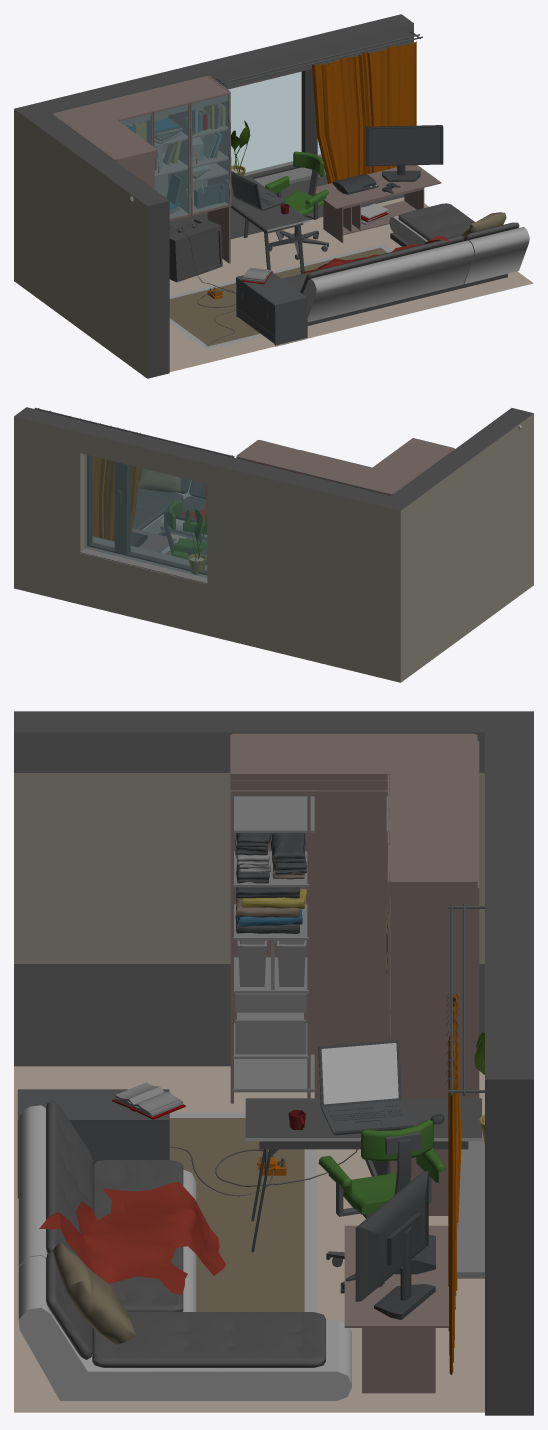
File: room.glb
3 views of the same model, one above another, from view 1: azimuth 30°, elevation 25°; view 2: azimuth 150°, elevation 25°; view 3: azimuth 270°, elevation 25° (orthographic). The views are drawn at different scales.
Visible parts, largest first — view 1: polySurface1299, pPlane7, polySurface1287, polySurface5, polySurface493, polySurface1073, polySurface604, polySurface1300, pCube108, pCylinder49, polySurface492, pCube292 (+14 smaller); view 2: polySurface1299, pPlane7, polySurface1287, polySurface143, polySurface1073, polySurface492, pCube94, polySurface576, pCube273, polySurface493, pCube108, pCylinder70; view 3: polySurface1299, polySurface1287, polySurface5, polySurface492, polySurface1301, polySurface604, polySurface493, polySurface1484, pCube108, polySurface1300, pCube292, polySurface437 (+13 smaller).
Boxes of the visible parts, <box> form: polySurface1299: <box>14,14,413,378</box>; pPlane7: <box>119,72,320,218</box>; polySurface1287: <box>52,75,231,263</box>; polySurface5: <box>169,197,533,371</box>; polySurface493: <box>302,215,529,322</box>; polySurface1073: <box>312,39,416,183</box>; polySurface604: <box>169,244,392,349</box>; polySurface1300: <box>49,23,413,114</box>; pCube108: <box>315,165,441,242</box>; pCylinder49: <box>236,269,307,346</box>; polySurface492: <box>282,203,519,293</box>; pCube292: <box>365,125,443,181</box>; polySurface1299: <box>14,407,533,682</box>; pPlane7: <box>84,454,207,577</box>; polySurface1287: <box>236,438,454,495</box>; polySurface143: <box>87,455,207,575</box>; polySurface1073: <box>48,410,140,541</box>; polySurface492: <box>132,468,206,530</box>; pCube94: <box>80,536,207,583</box>; polySurface576: <box>164,500,207,559</box>; pCube273: <box>138,468,181,492</box>; polySurface493: <box>141,480,207,541</box>; pCube108: <box>131,528,176,552</box>; pCylinder70: <box>34,407,234,457</box>; polySurface1299: <box>14,711,533,1415</box>; polySurface1287: <box>230,733,479,1215</box>; polySurface5: <box>14,1066,484,1412</box>; polySurface492: <box>46,1101,325,1367</box>; polySurface1301: <box>14,964,484,1066</box>; polySurface604: <box>169,1112,316,1312</box>; polySurface493: <box>18,1105,351,1400</box>; polySurface1484: <box>39,1182,225,1295</box>; pCube108: <box>344,1225,448,1393</box>; polySurface1300: <box>14,732,484,772</box>; pCube292: <box>355,1171,435,1319</box>; polySurface437: <box>318,1040,413,1135</box>.
Bounding box in the file's own units: 5.05 × 2.16 × 2.99.
